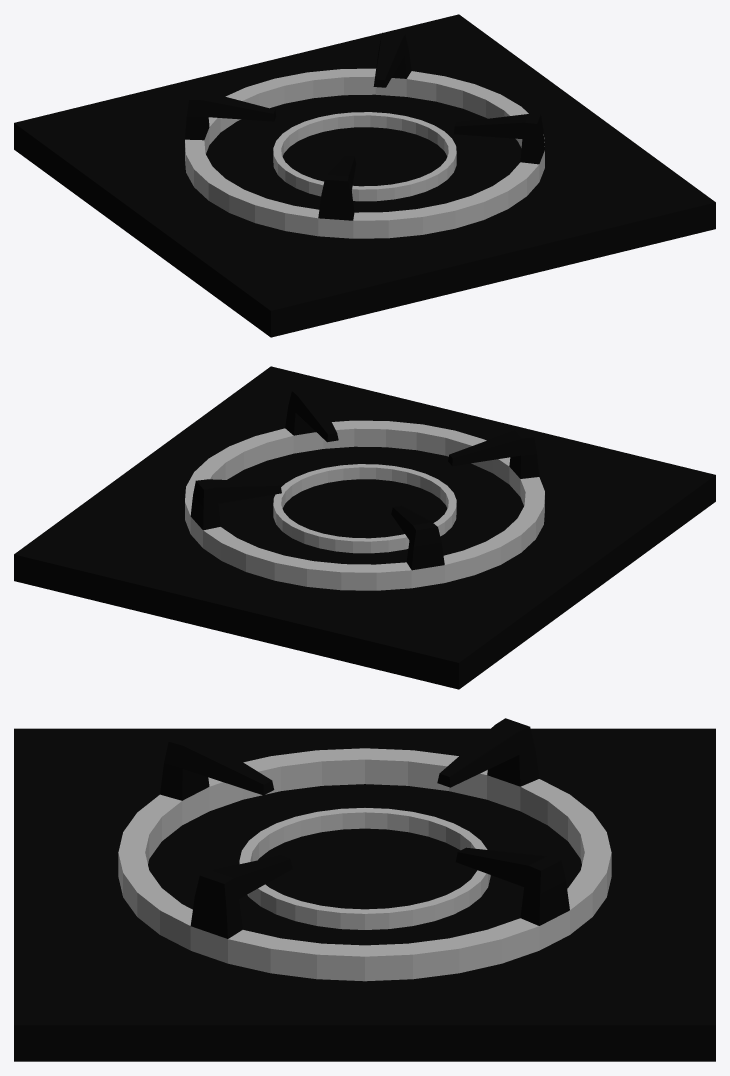
Rendered from Fire_Fry.fbx.
3 renders of one model, top to bottom at view 1: azimuth 30°, elevation 25°; view 2: azimuth 150°, elevation 25°; view 3: azimuth 270°, elevation 25°, orthographic. The views are drawn at different scales.
Parts seen in each view (by area): view 1: Fire.002; view 2: Fire.002; view 3: Fire.002.
Boxes of the visible parts, x1,y1,x2,y2 form: Fire.002: (14, 14, 715, 337); Fire.002: (14, 366, 715, 689); Fire.002: (14, 718, 715, 1061).
Bounding box in the file's own units: 0.8453 × 0.1492 × 0.8453.
